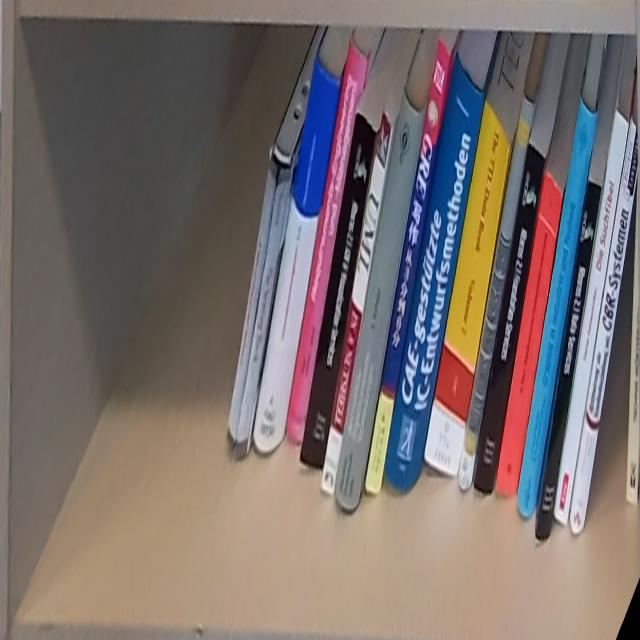Book Spine: (386, 44, 485, 493), (365, 35, 452, 497), (334, 87, 427, 509), (253, 54, 341, 455), (517, 92, 597, 519), (285, 40, 368, 447), (425, 93, 510, 480), (458, 87, 537, 493), (556, 110, 629, 524), (569, 117, 639, 537), (320, 107, 394, 498), (300, 111, 377, 472), (534, 175, 603, 541), (474, 145, 545, 494), (498, 168, 563, 494), (235, 163, 295, 461), (227, 152, 279, 447), (625, 153, 640, 506)
